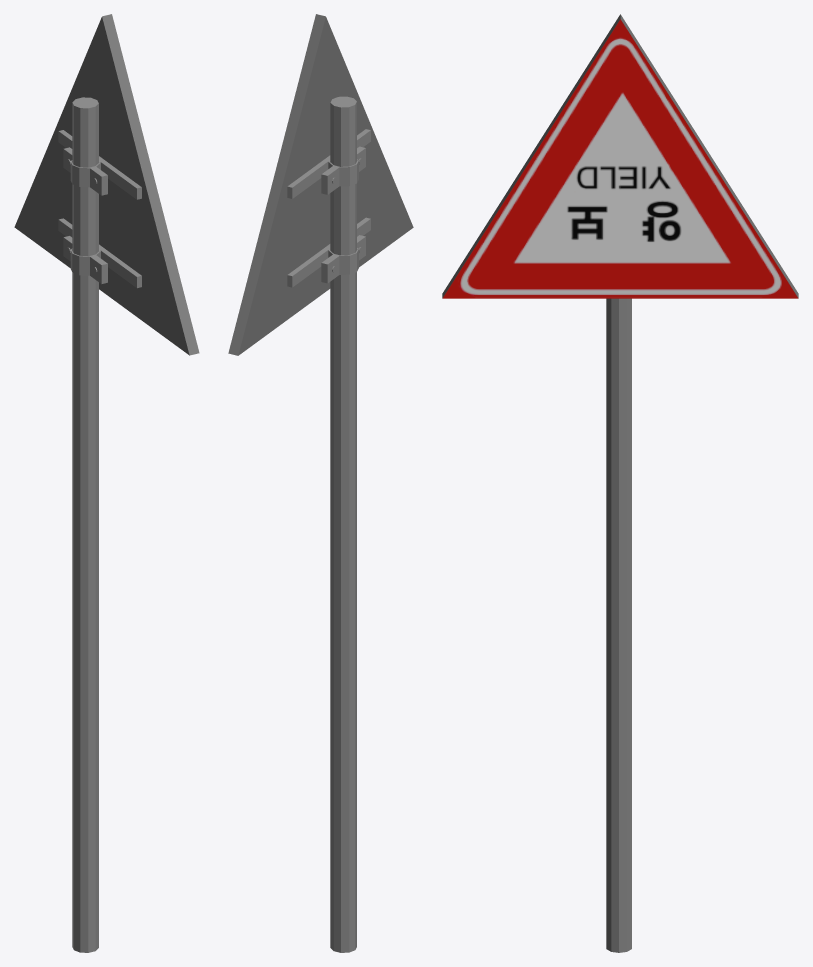
The model's file is obj_sign_8.fbx.
3 views of the same model, side by side, from view 1: azimuth 30°, elevation 25°; view 2: azimuth 150°, elevation 25°; view 3: azimuth 270°, elevation 25° (orthographic).
Parts seen in each view (by area): view 1: obj_sign_8; view 2: obj_sign_8; view 3: obj_sign_8.
Boxes of the visible parts, x1=… form: obj_sign_8: x1=14, y1=14, x2=199, y2=952; obj_sign_8: x1=228, y1=14, x2=413, y2=952; obj_sign_8: x1=442, y1=14, x2=798, y2=952.
Bounding box in the file's own units: 0.1099 × 2.42 × 0.8304.
1 material, 1 textured.
